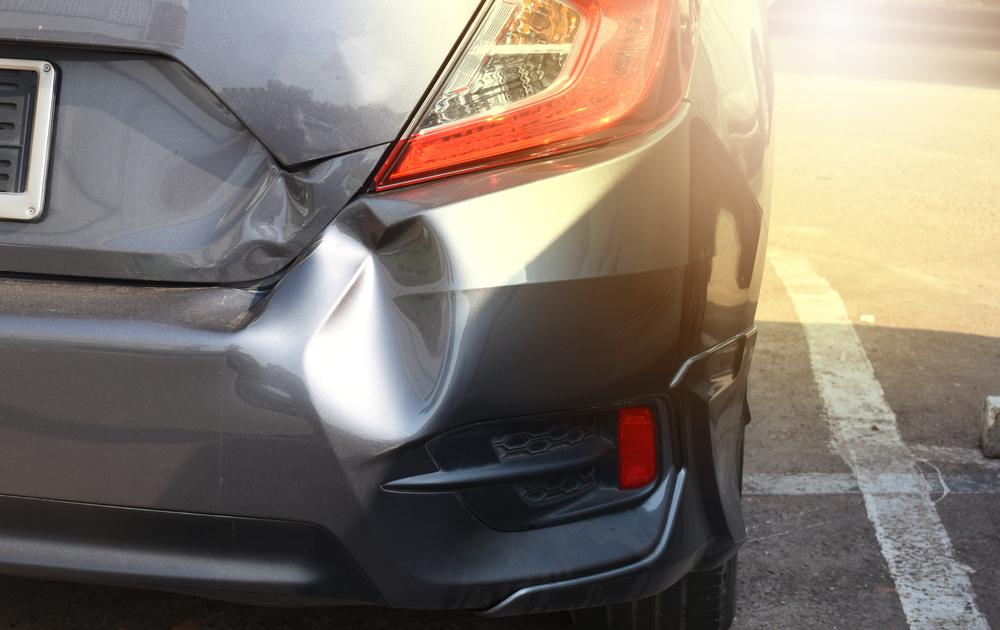dent: (307, 202, 457, 436), (144, 134, 322, 283)
